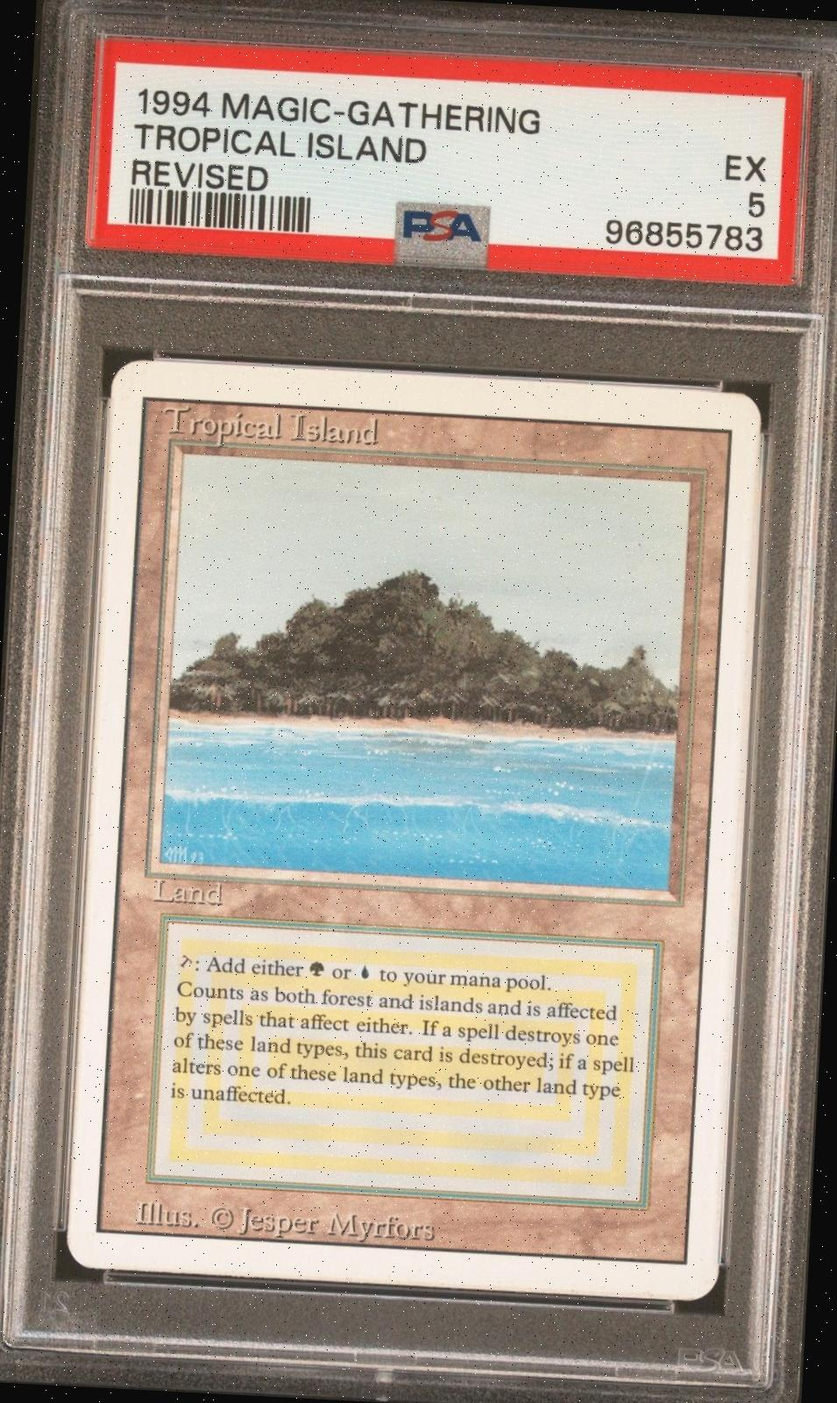card-2UtV: (66, 359, 761, 1301)
